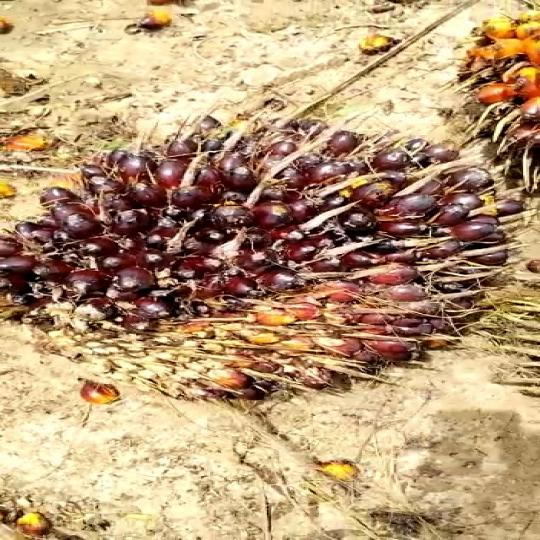mentah: (4, 114, 520, 398)
